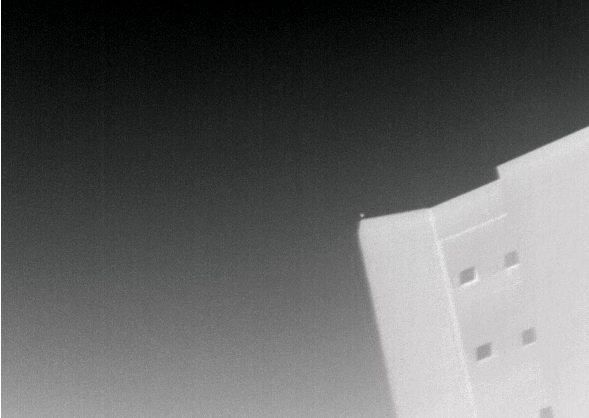dim target: (358, 212, 365, 218)
